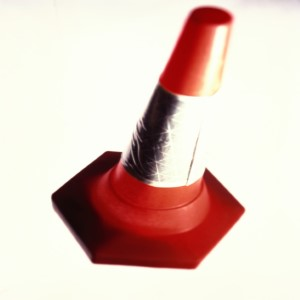traffic cone: (51, 6, 246, 270)
